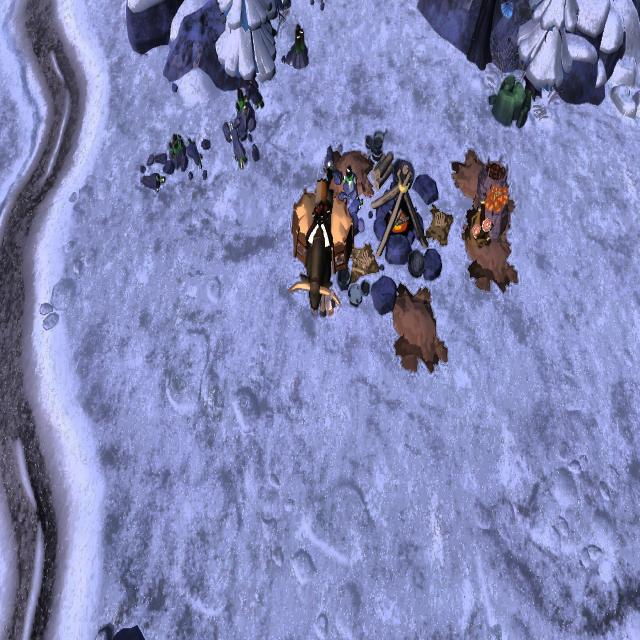ore_t3: (291, 19, 305, 52)
rock_t3: (484, 69, 534, 134)
